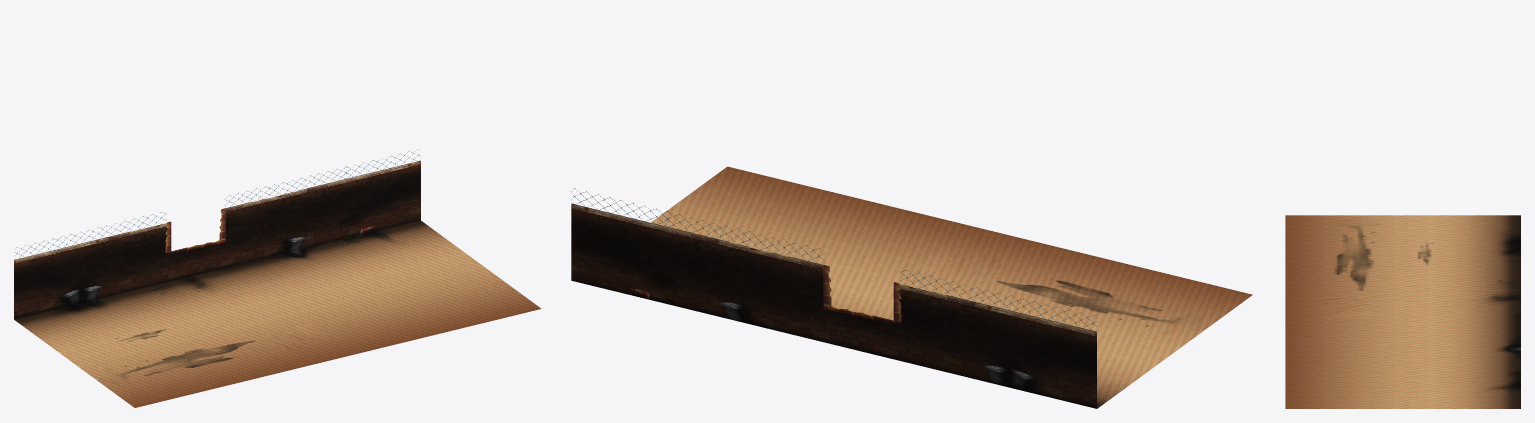
Rendered from background 1.FBX.
The picture shows the model from 3 angles, left to right: view 1: azimuth 30°, elevation 25°; view 2: azimuth 150°, elevation 25°; view 3: azimuth 270°, elevation 25°; orthographic projection. The views are drawn at different scales.
Parts seen in each view (by area): view 1: Plane001; view 2: Plane001; view 3: Plane001.
Boxes of the visible parts, x1,y1,x2,y2 form: Plane001: [14, 149, 541, 407]; Plane001: [571, 166, 1252, 408]; Plane001: [1285, 215, 1520, 408].
Size of the model in its own units: 1.26 by 0.6096 by 0.6526.
Materials: 1 (1 with a texture image).
